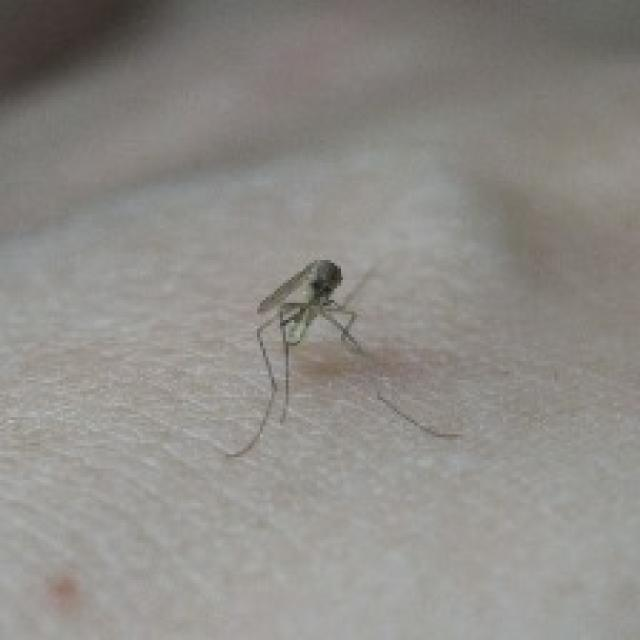culex: (217, 249, 463, 457)
